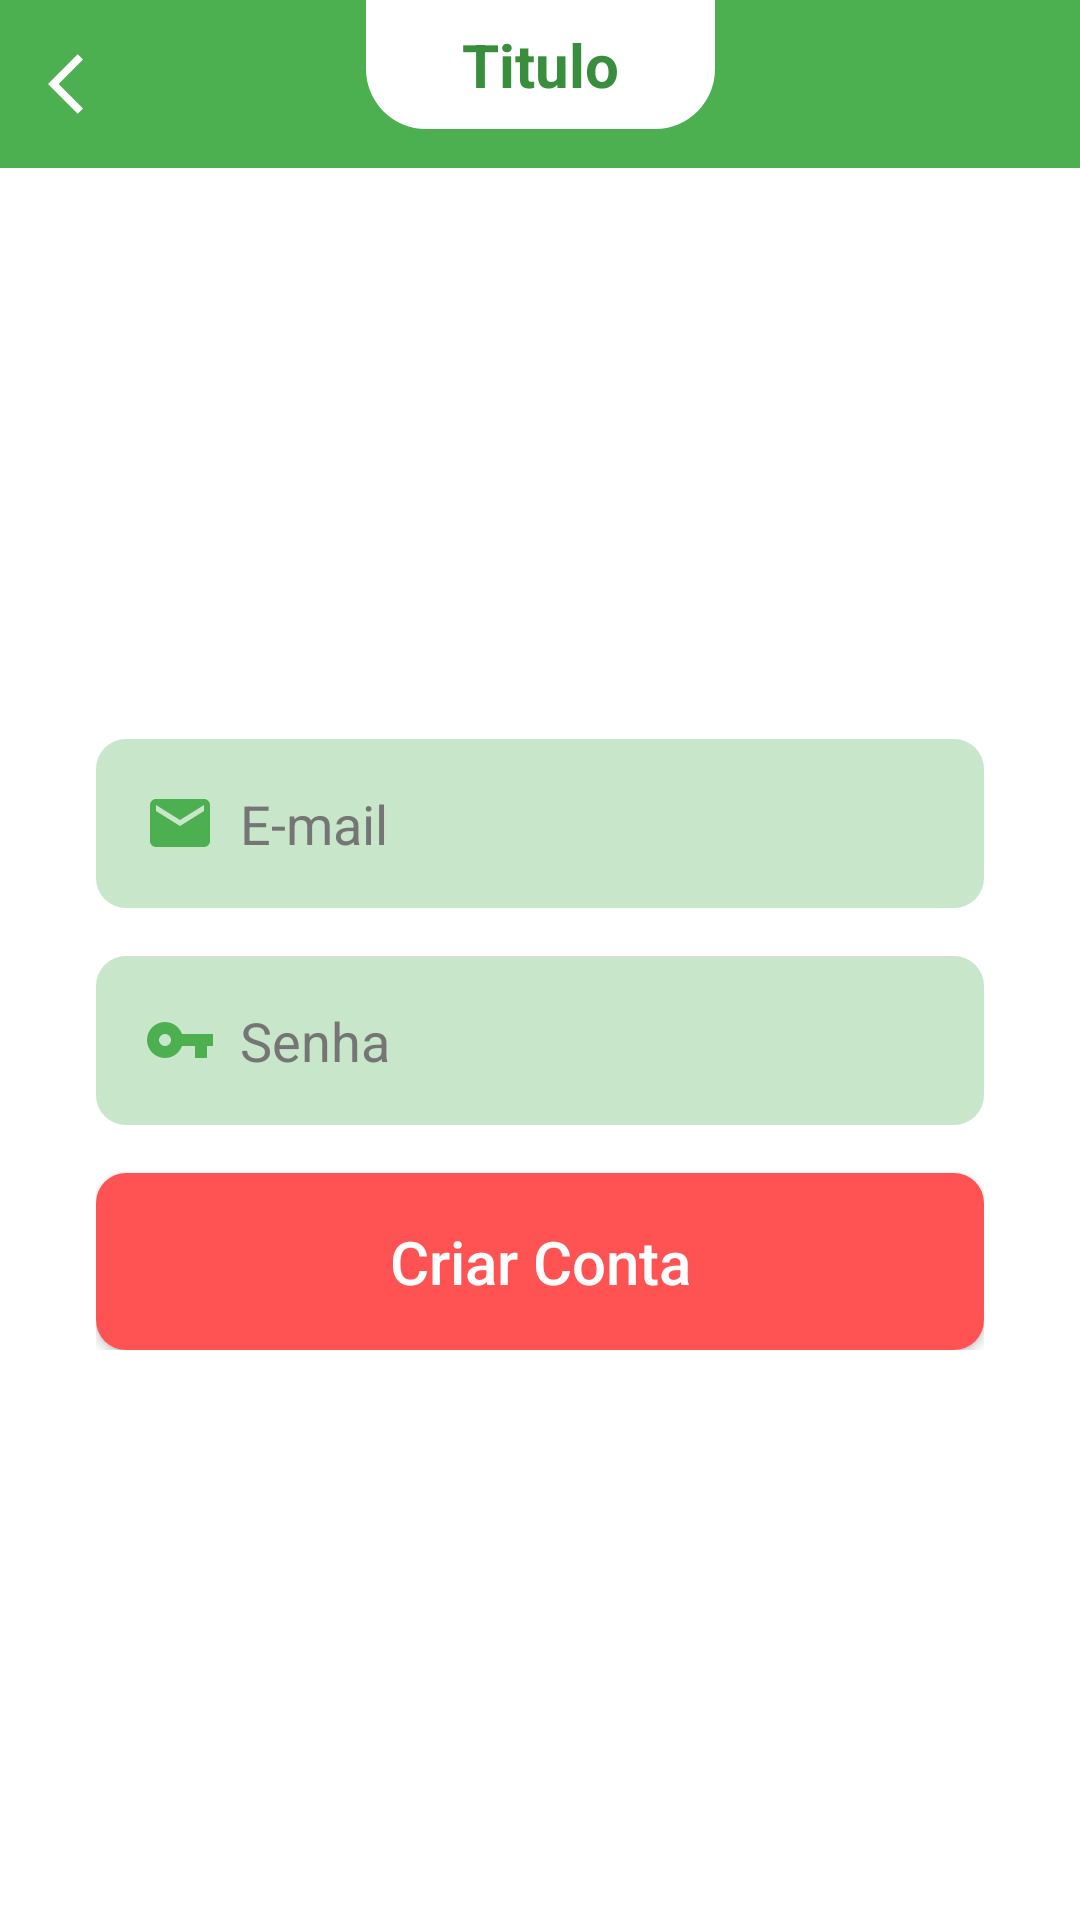

Screen size 1080 x 1920. Icon name, then its center in pixels as (x,y):
voltar: (65,84)
